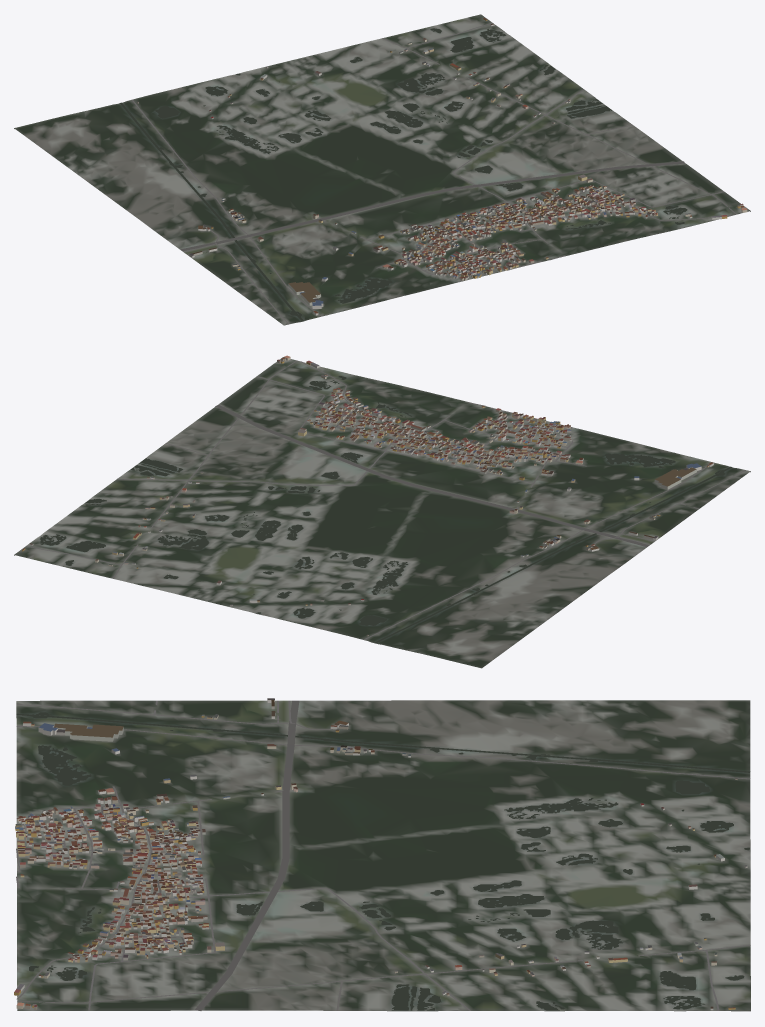
3 renders of one model, top to bottom at view 1: azimuth 30°, elevation 25°; view 2: azimuth 150°, elevation 25°; view 3: azimuth 270°, elevation 25°, orthographic. The views are drawn at different scales.
Parts seen in each view (by area): view 1: ground, buildings, water, roads; view 2: ground, buildings, water, roads; view 3: ground, buildings, water, roads.
Part boxes in pixels (left/top/right/bottom): ground: left=14, top=14, right=750, bottom=325; buildings: left=137, top=18, right=747, bottom=315; water: left=120, top=28, right=687, bottom=321; roads: left=131, top=23, right=736, bottom=324; ground: left=14, top=357, right=750, bottom=668; buildings: left=22, top=355, right=713, bottom=636; water: left=40, top=376, right=732, bottom=643; roads: left=26, top=360, right=745, bottom=639; ground: left=16, top=700, right=750, bottom=1011; buildings: left=14, top=698, right=747, bottom=1010; water: left=16, top=712, right=750, bottom=1010; roads: left=16, top=700, right=750, bottom=1010.
Bounding box in the file's own units: 1407 × 16.7 × 1408.
